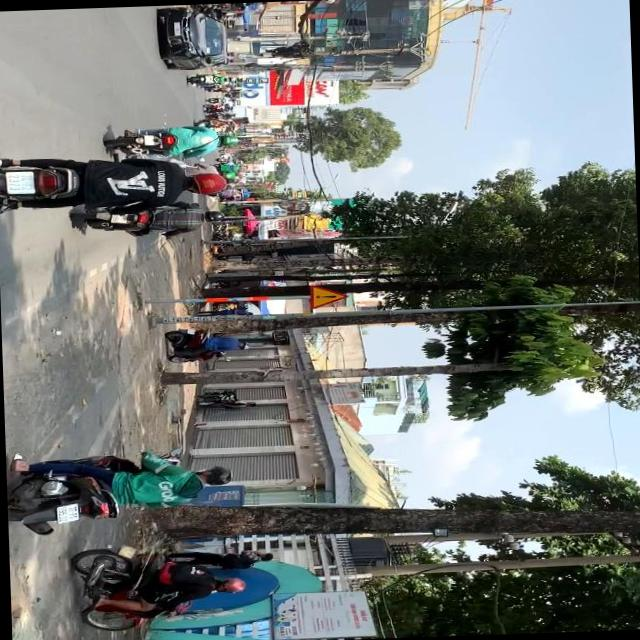W-233: (306, 282, 352, 307)
